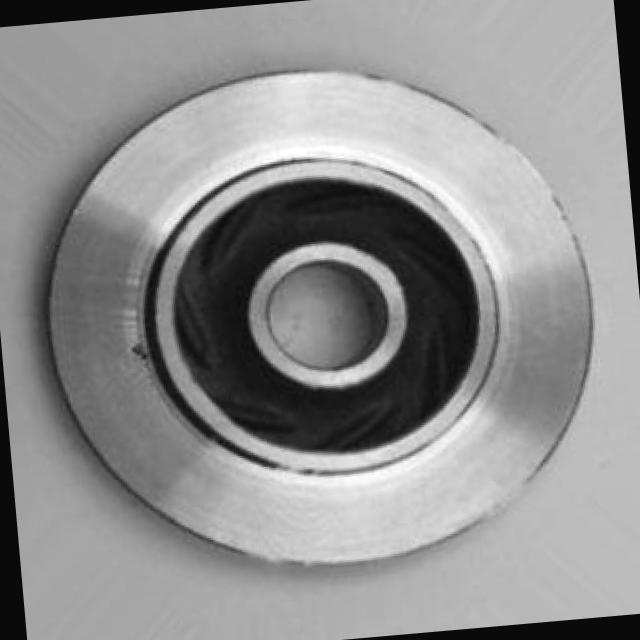Defect: (117, 335, 161, 366)
